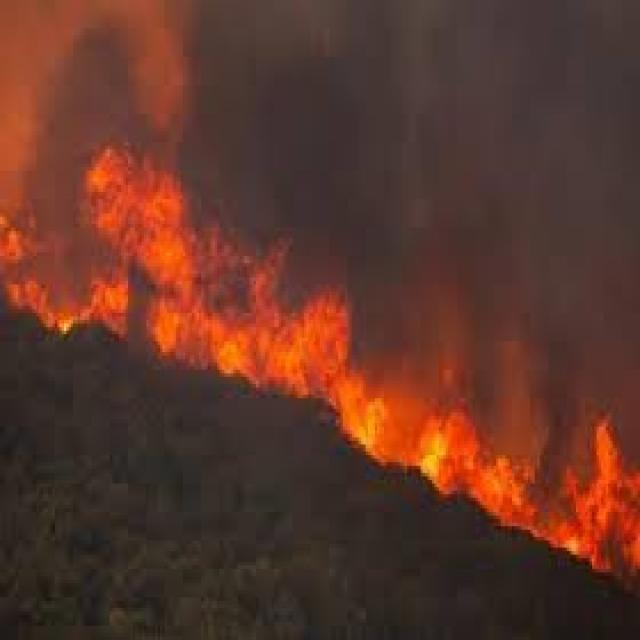Fire: (95, 160, 226, 358), (242, 264, 370, 441), (526, 413, 640, 573), (392, 375, 516, 522)
Smoke: (121, 24, 638, 336)
